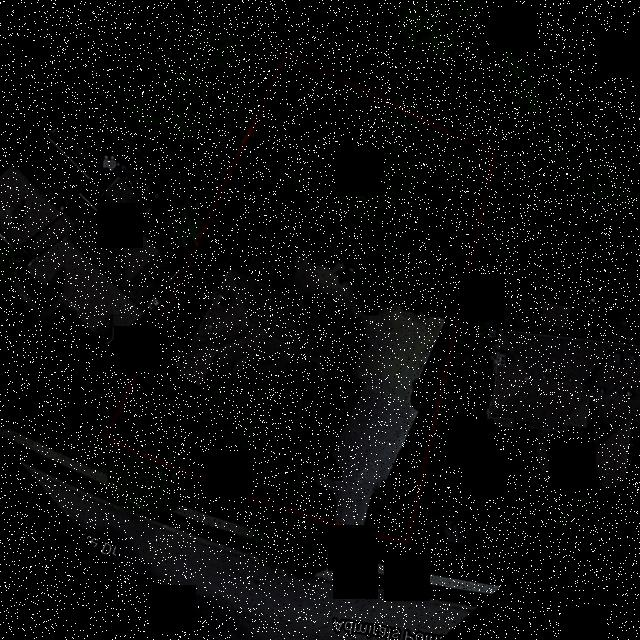Driveway: (292, 255, 444, 526)
Extra Lawn: (79, 477, 256, 553), (355, 536, 407, 569), (355, 569, 401, 592)
Extra Sidewalk: (354, 559, 406, 580)
House: (174, 251, 362, 445)
